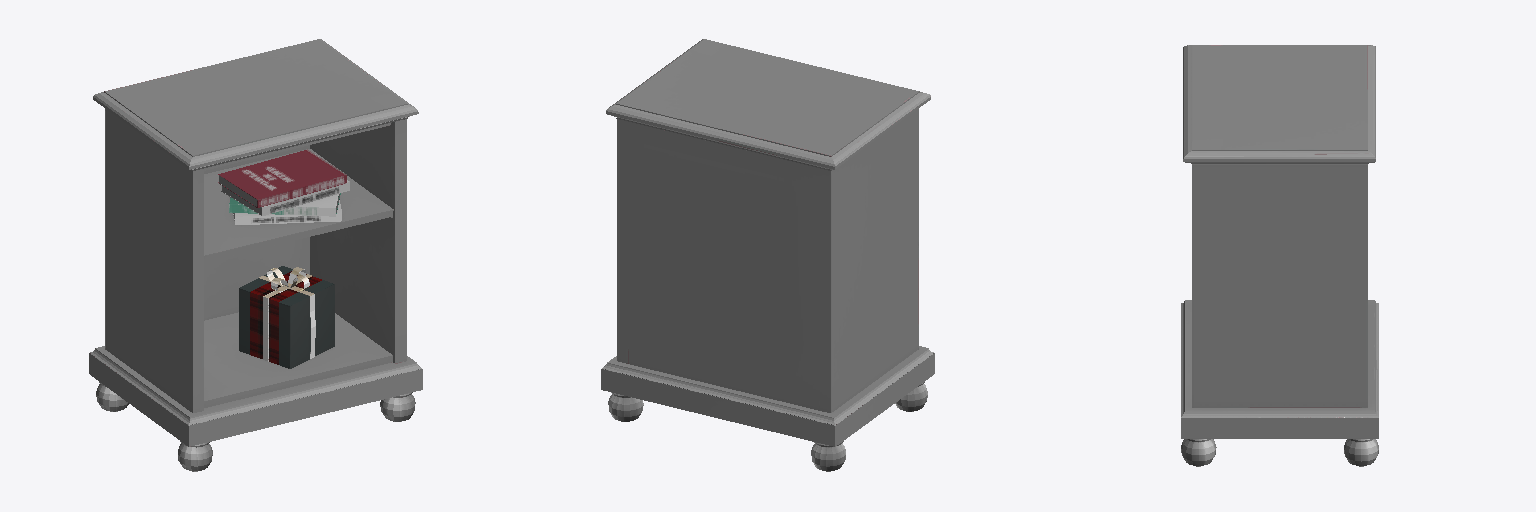
3 views of the same model, side by side, from view 1: azimuth 30°, elevation 25°; view 2: azimuth 150°, elevation 25°; view 3: azimuth 270°, elevation 25° (orthographic).
Parts seen in each view (by area): view 1: solid_002, solid_008, solid_003, solid_009, solid_001, solid_006, solid_007, solid_005, solid_004; view 2: solid_002; view 3: solid_002.
Boxes of the visible parts, box(x1,y1,x2,y2) form: solid_002: box(89, 39, 422, 471); solid_008: box(239, 266, 334, 368); solid_003: box(218, 149, 346, 207); solid_009: box(250, 271, 321, 364); solid_001: box(259, 267, 315, 361); solid_006: box(229, 193, 340, 216); solid_007: box(233, 200, 341, 224); solid_005: box(221, 180, 349, 215); solid_004: box(219, 176, 339, 218); solid_002: box(601, 39, 934, 471); solid_002: box(1181, 45, 1378, 466).
Bounding box in the file's own units: 1.11 × 1.44 × 0.8204.
Materials: 1 (1 with a texture image).